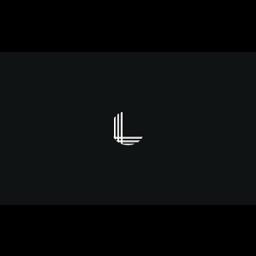l: (110, 107, 146, 151)
